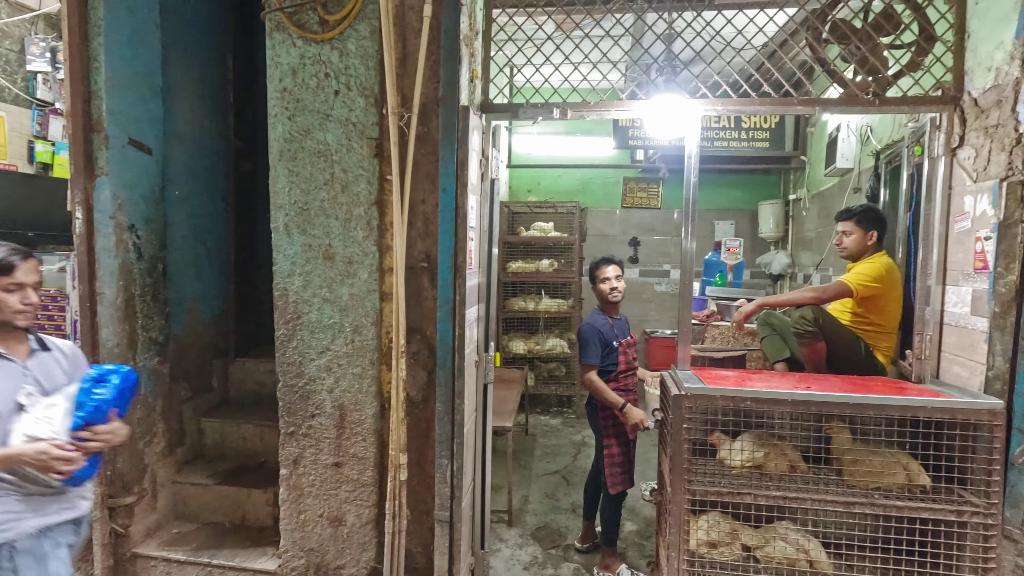garbage: (65, 357, 141, 490)
